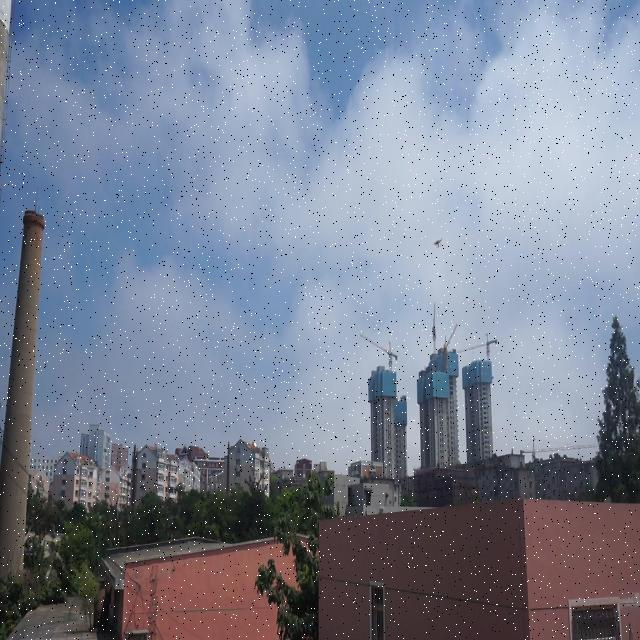UAV: (432, 237, 442, 248)
